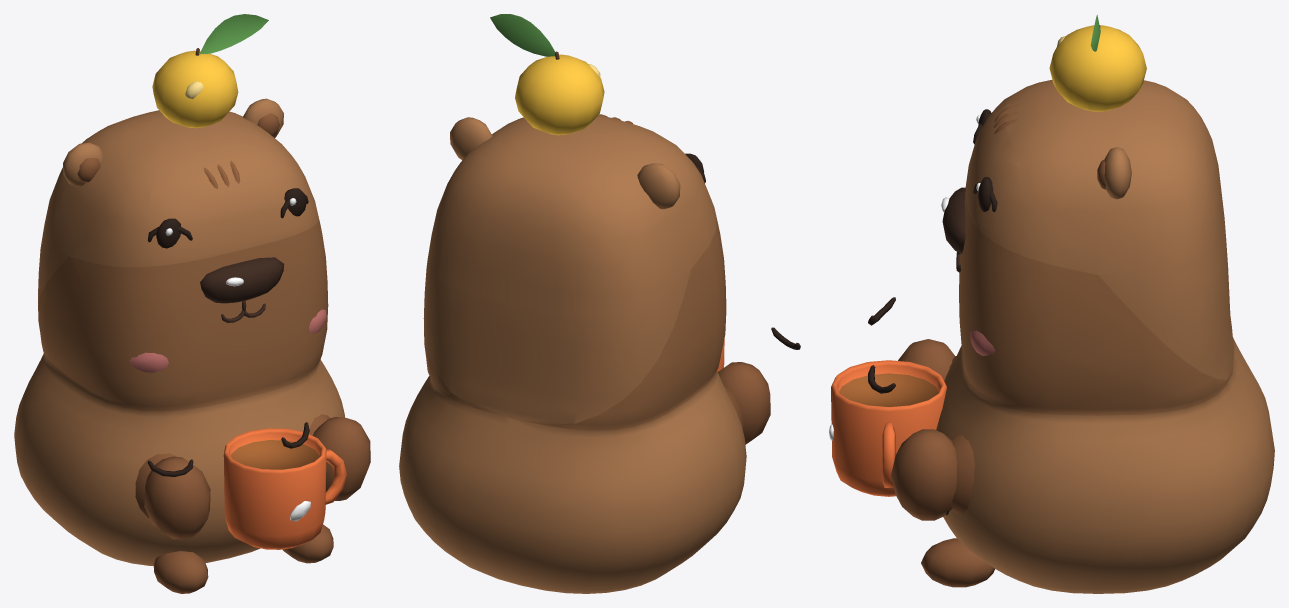
Rendered from chai_r0.glb.
3 views of the same model, side by side, from view 1: azimuth 30°, elevation 25°; view 2: azimuth 150°, elevation 25°; view 3: azimuth 270°, elevation 25° (orthographic). The views are drawn at different scales.
Visible parts, largest first — view 1: body, paws_mug, yuzu, eyes_open, eyes_sleep; view 2: body, yuzu, paws_mug; view 3: body, paws_mug, yuzu.
Part boxes in pixels (left/top/right/bottom): body: left=14, top=98, right=344, bottom=593; paws_mug: left=144, top=417, right=370, bottom=549; yuzu: left=152, top=14, right=268, bottom=128; eyes_open: left=156, top=188, right=306, bottom=248; eyes_sleep: left=147, top=422, right=309, bottom=476; body: left=399, top=114, right=746, bottom=593; yuzu: left=490, top=14, right=604, bottom=135; paws_mug: left=717, top=339, right=770, bottom=444; body: left=921, top=80, right=1274, bottom=593; paws_mug: left=829, top=339, right=957, bottom=520; yuzu: left=1049, top=14, right=1146, bottom=111.
Bounding box in the file's own units: 0.5854 × 0.9929 × 0.714.
